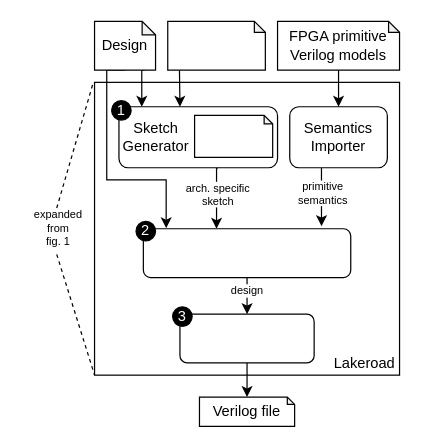
Some shapes in this 427 by 448 pixel diagram are drawn without their labels. Each missing label, with the box of its shape:
arch. indep. sketch templates: (193, 114, 273, 157)
Architecture description: (167, 20, 265, 70)
Compilation to Verilog: (179, 313, 314, 363)
Program Synthesis: (142, 228, 351, 278)
